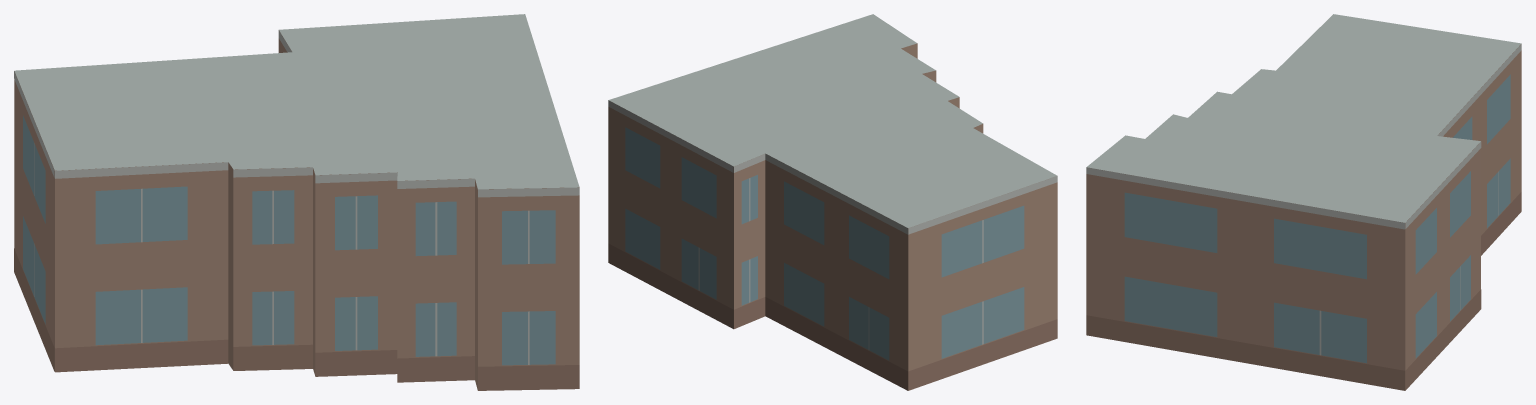
The model's file is survey-upis-32640481.glb.
3 renders of one model, left to right at view 1: azimuth 30°, elevation 25°; view 2: azimuth 150°, elevation 25°; view 3: azimuth 270°, elevation 25°, orthographic. The views are drawn at different scales.
Parts seen in each view (by area): view 1: survey-upis-32640481.tmp; view 2: survey-upis-32640481.tmp; view 3: survey-upis-32640481.tmp.
Boxes of the visible parts, x1,y1,x2,y2 form: survey-upis-32640481.tmp: (14, 14, 579, 390); survey-upis-32640481.tmp: (608, 14, 1057, 390); survey-upis-32640481.tmp: (1086, 14, 1521, 390).
Size of the model in its own units: 16.27 by 6.1 by 14.33.
